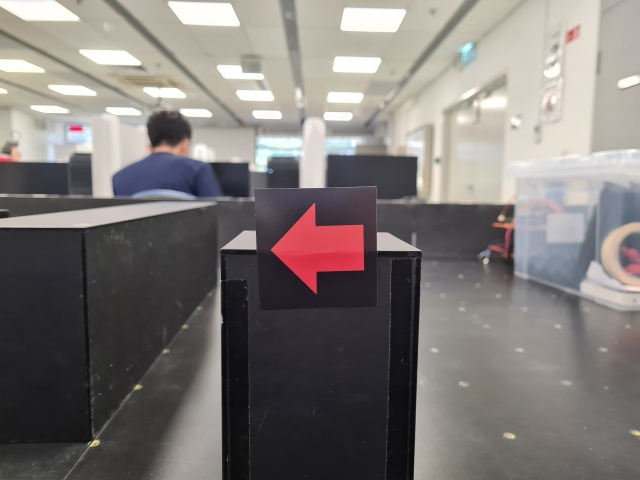left_arrow: (254, 186, 379, 308)
